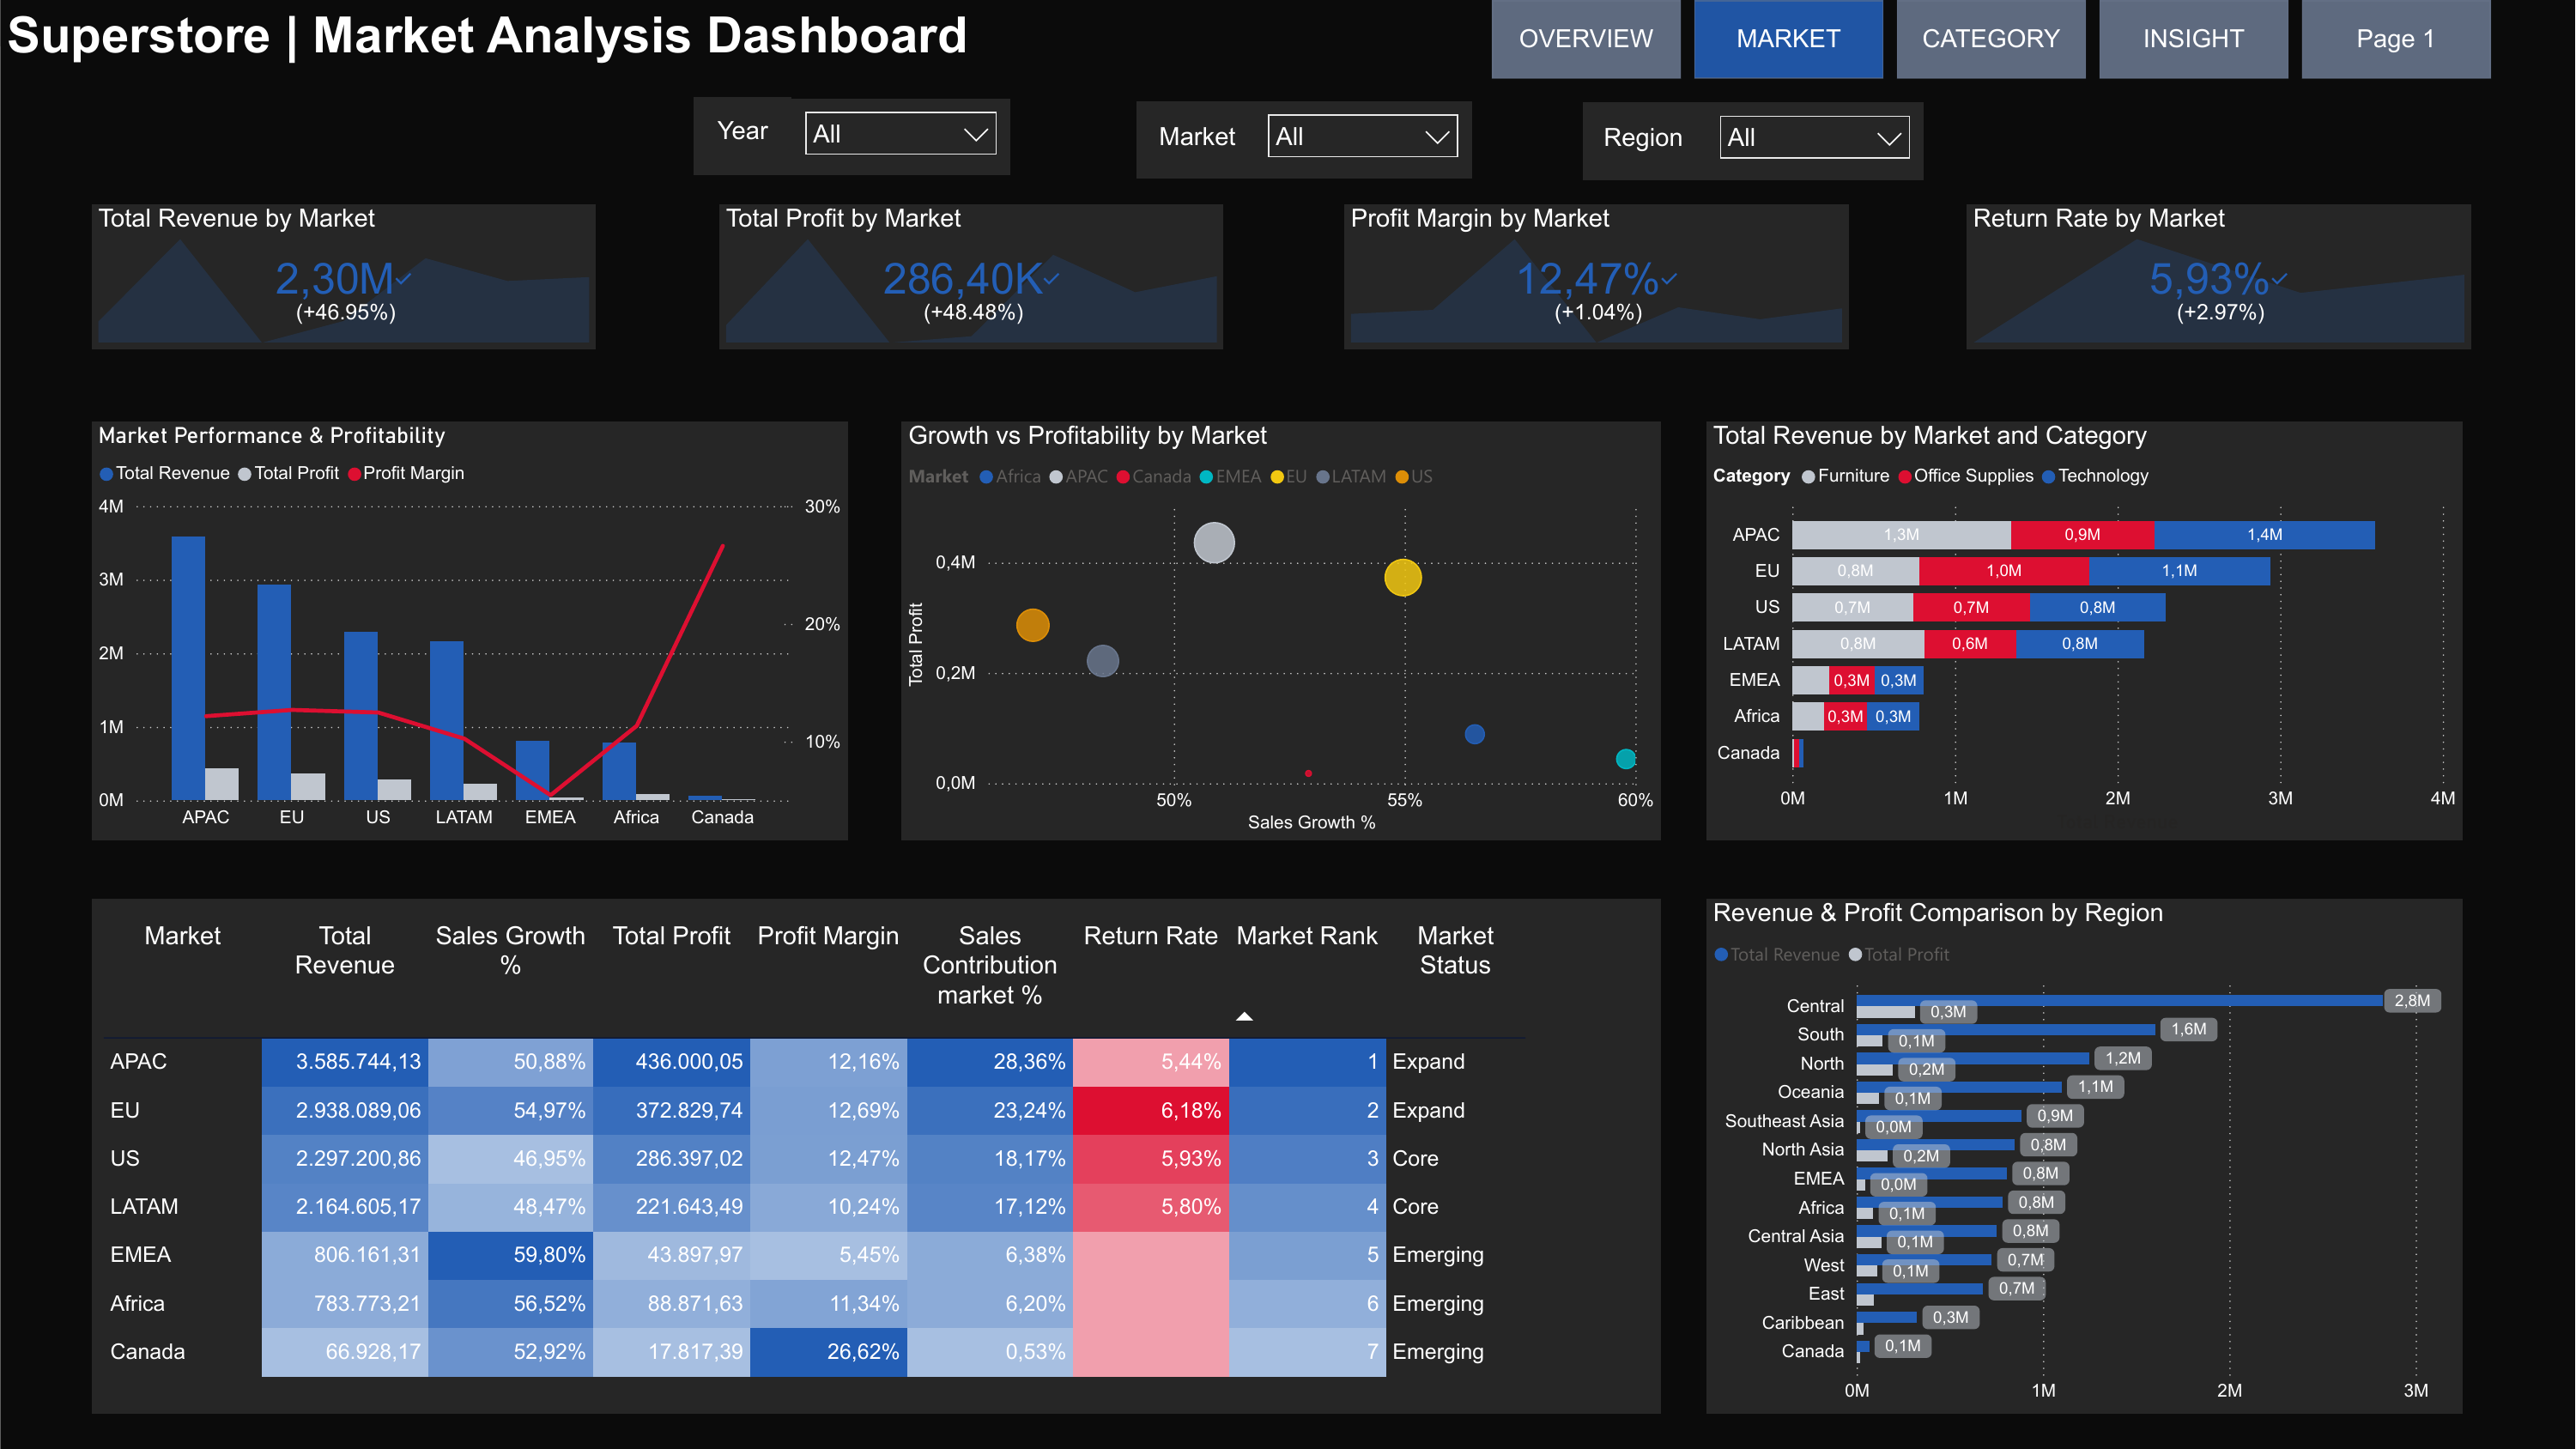

The dashboard page shown, as its layout file describes it:
{"tool":"powerbi","page":{"name":"MARKET","canvas":[1920,1080],"ordinal":1},"visuals":[{"type":"textbox","box":[516.7,71.7,73.3,58.3],"z":1000},{"type":"textbox","box":[0,0,846,58],"z":2000},{"type":"pageNavigator","box":[1112,0,748,58],"z":3000},{"type":"slicer","fields":{"Values":["Dim_date.Date.Variation.Date Hierarchy.Year"]},"box":[590,72.5,162.5,57.5],"z":4000},{"type":"textbox","box":[846.7,75,93.3,58.3],"z":5000},{"type":"slicer","fields":{"Values":["Order.Market"]},"box":[935,75,161.7,58.3],"z":6000},{"type":"textbox","box":[1180,76,92,58],"z":7000},{"type":"slicer","fields":{"Values":["Order.Region"]},"box":[1272,76,162,58],"z":8000},{"type":"lineClusteredColumnComboChart","title":"Market Performance & Profitability","fields":{"Y":["_Measure.Total Revenue","_Measure.Total Profit"],"Y2":["_Measure.Profit Margin"],"Category":["Order.Market"]},"box":[68,314,564,312],"z":9000},{"type":"kpi","title":"Total Revenue by Market","fields":{"Indicator":["_Measure.Total Revenue"],"TrendLine":["Order.Market"],"Goal":["_Measure.SalesLY"]},"box":[68,152,376,108],"z":10000},{"type":"kpi","title":"Total Profit by Market","fields":{"TrendLine":["Order.Market"],"Goal":["_Measure.ProfitLY"],"Indicator":["_Measure.Total Profit"]},"box":[536,152,376,108],"z":11000},{"type":"kpi","title":"Profit Margin by Market","fields":{"TrendLine":["Order.Market"],"Indicator":["_Measure.Profit Margin"],"Goal":["_Measure.MarginLY"]},"box":[1002,152,376,108],"z":12000},{"type":"kpi","title":"Return Rate by Market","fields":{"TrendLine":["Order.Market"],"Indicator":["Return.Return Rate"],"Goal":["Return.ReturnLY"]},"box":[1466,152,376,108],"z":13000},{"type":"scatterChart","title":"Growth vs Profitability by Market","fields":{"X":["_Measure.Sales YoY %"],"Size":["_Measure.Total Revenue"],"Series":["Order.Market"],"Y":["_Measure.Total Profit"]},"box":[672,314,566,312],"z":14000},{"type":"clusteredBarChart","title":"Revenue & Profit Comparison by Region","fields":{"Category":["Order.Region","Order.Market"],"Y":["_Measure.Total Revenue","_Measure.Total Profit"]},"box":[1272,670,564,384],"z":15000},{"type":"barChart","fields":{"Category":["Order.Market"],"Series":["Order.Category"],"Y":["_Measure.Total Revenue"]},"box":[1272,314,564,312],"z":16000},{"type":"tableEx","fields":{"Values":["Order.Market","_Measure.Total Revenue","_Measure.Sales Growth %","_Measure.Total Profit","_Measure.Profit Margin","_Measure.Sales Contribution market %","Return.Return Rate","_Measure.Market Rank","_Measure.Market Status"]},"box":[68,670,1170,384],"z":17000}]}

Visuals, with their boxes in screenshot pixels (x1, y1, x2, y2), scaled from the page's 1920x1080 canvas onto the 2576x1449 screenshot:
textbox: x1=694 y1=96 x2=791 y2=174
textbox: x1=0 y1=0 x2=1135 y2=78
pageNavigator: x1=1492 y1=0 x2=2495 y2=78
slicer - Dim_date.Date.Variation.Date Hierarchy.Year: x1=791 y1=97 x2=1009 y2=174
textbox: x1=1136 y1=100 x2=1261 y2=179
slicer - Order.Market: x1=1254 y1=100 x2=1471 y2=179
textbox: x1=1583 y1=102 x2=1706 y2=179
slicer - Order.Region: x1=1706 y1=102 x2=1924 y2=179
"Market Performance & Profitability" lineClusteredColumnComboChart: x1=91 y1=421 x2=848 y2=840
"Total Revenue by Market" kpi: x1=91 y1=204 x2=596 y2=349
"Total Profit by Market" kpi: x1=719 y1=204 x2=1223 y2=349
"Profit Margin by Market" kpi: x1=1344 y1=204 x2=1849 y2=349
"Return Rate by Market" kpi: x1=1967 y1=204 x2=2471 y2=349
"Growth vs Profitability by Market" scatterChart: x1=901 y1=421 x2=1661 y2=840
"Revenue & Profit Comparison by Region" clusteredBarChart: x1=1706 y1=899 x2=2464 y2=1414
barChart - Order.Market x Order.Category: x1=1706 y1=421 x2=2464 y2=840
tableEx - Order.Market x _Measure.Total Revenue: x1=91 y1=899 x2=1661 y2=1414
